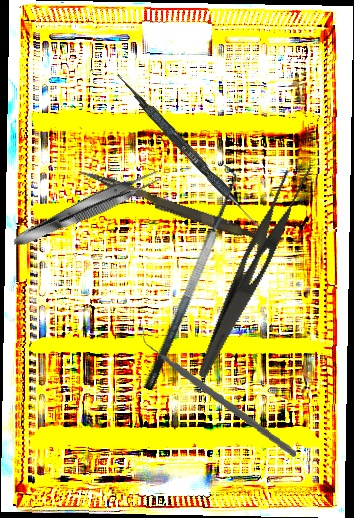Chopper: (132, 325, 306, 457)
Dressing Forceps: (196, 155, 315, 388)
Pusher: (76, 168, 280, 251)
Spatula Surgical: (124, 163, 250, 392), (111, 72, 271, 237)
Tissue Forceps: (7, 163, 166, 254)
